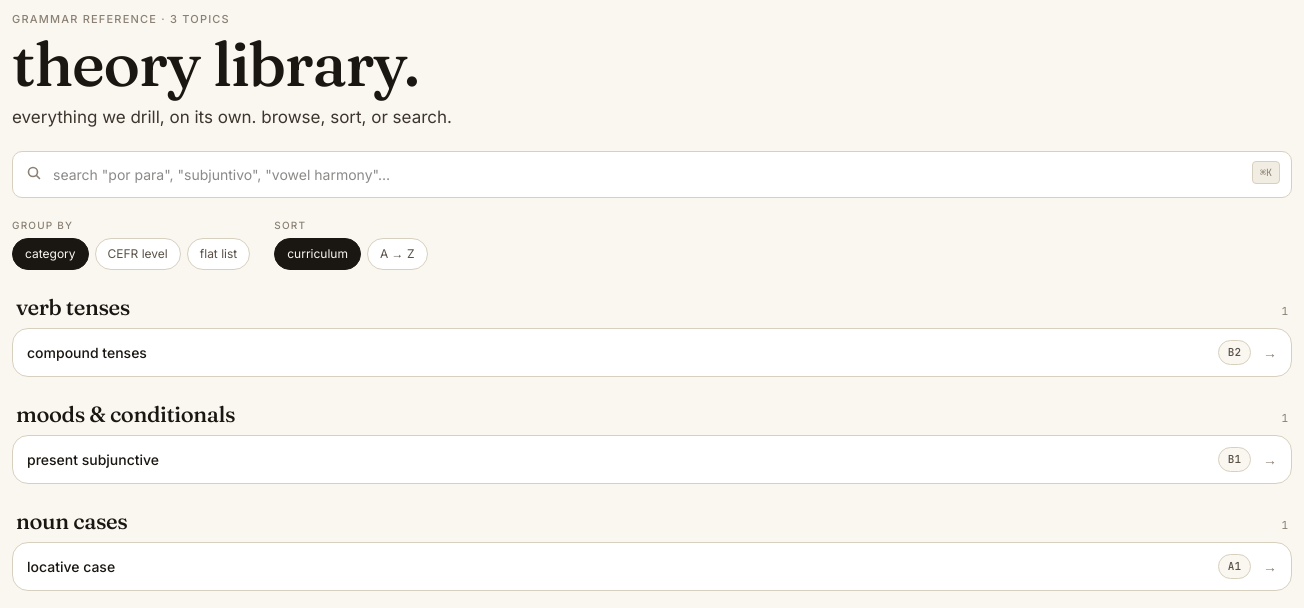
Test: TheoryLibraryPage › shows the no-results state with a clear action when search matches nothing
Type "zzzzz" into the search field named "search theory topics".
click(652, 174); type("zzzzz")  # box [12, 151, 1292, 198]
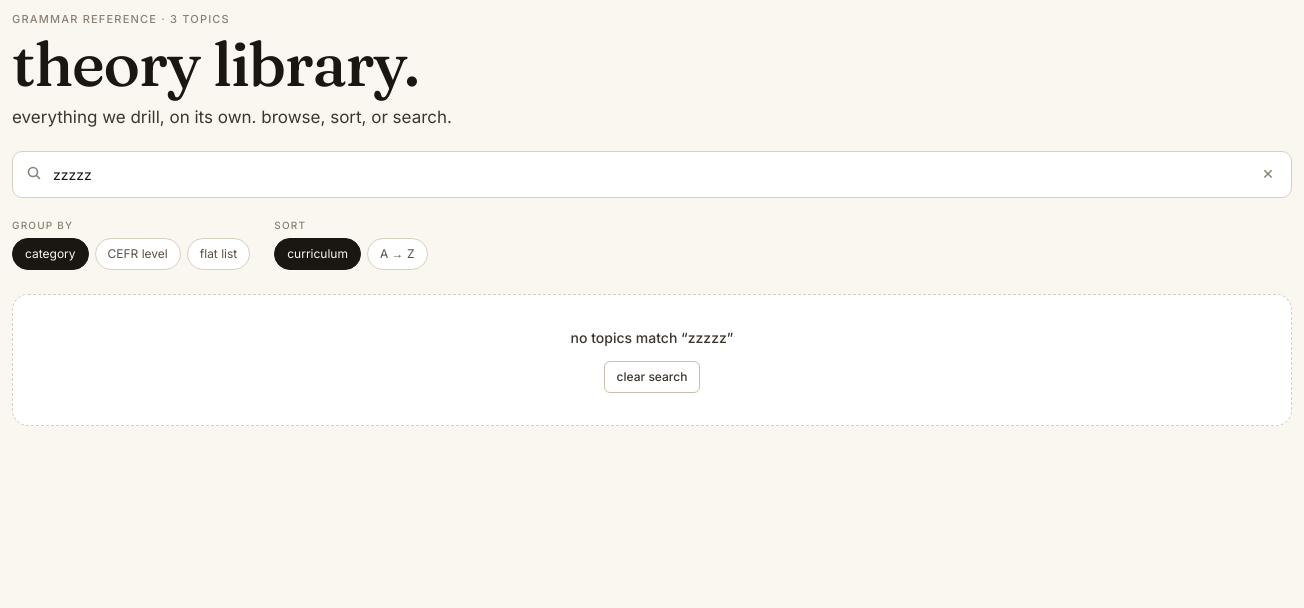
expect the text "no topics match “zzzzz”" is shown: met, box [571, 329, 733, 346]
Click the button "clear search".
click(652, 376)  # box [604, 360, 700, 392]
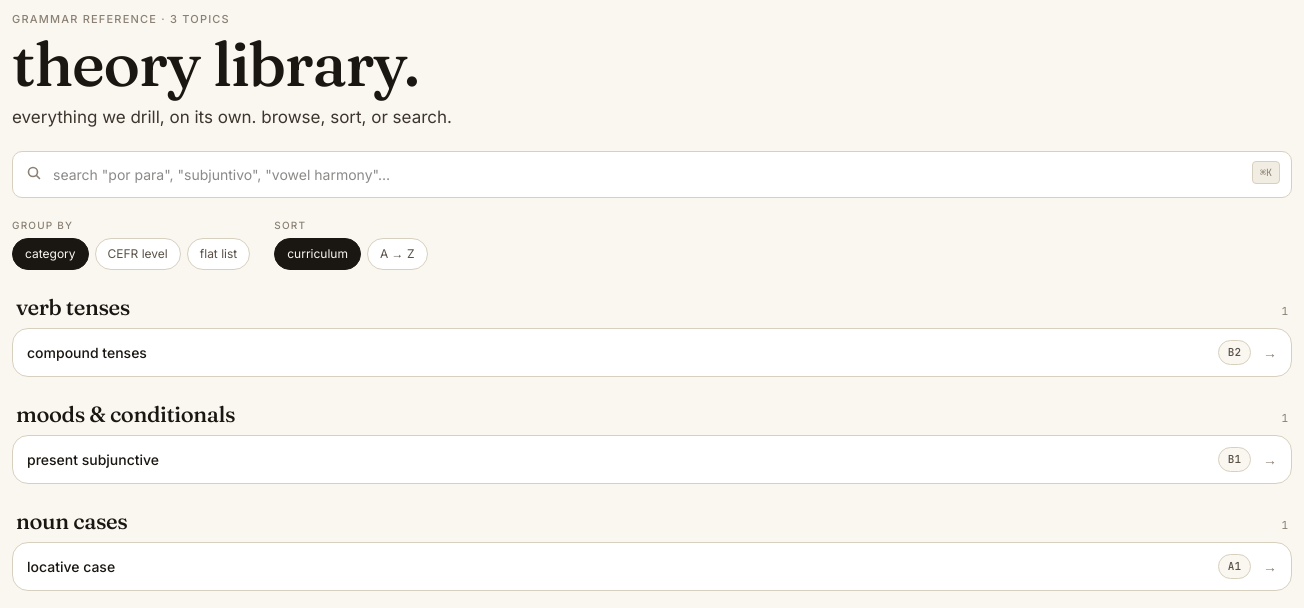
expect the text "compound tenses" is shown: met, box [27, 344, 147, 361]
